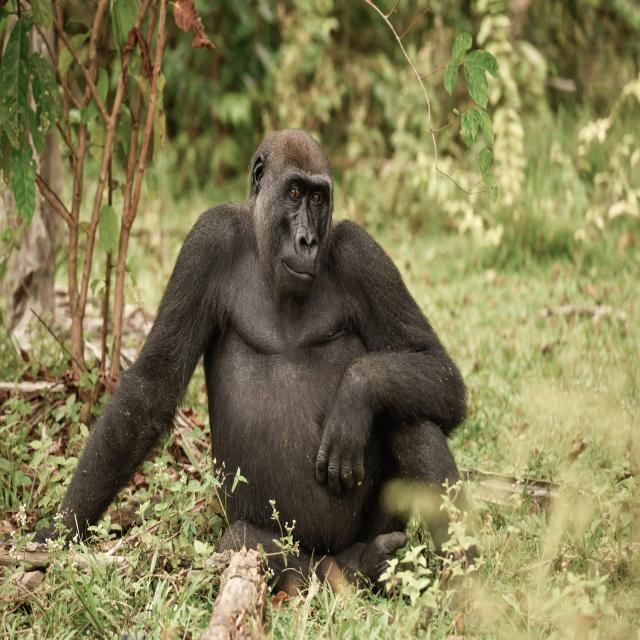Gorilla: (61, 129, 467, 578)
